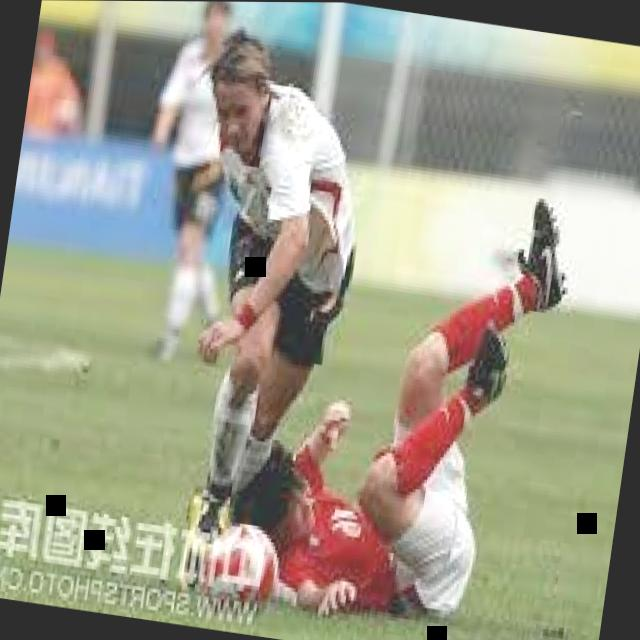Fall-Detected: (192, 124, 587, 639)
